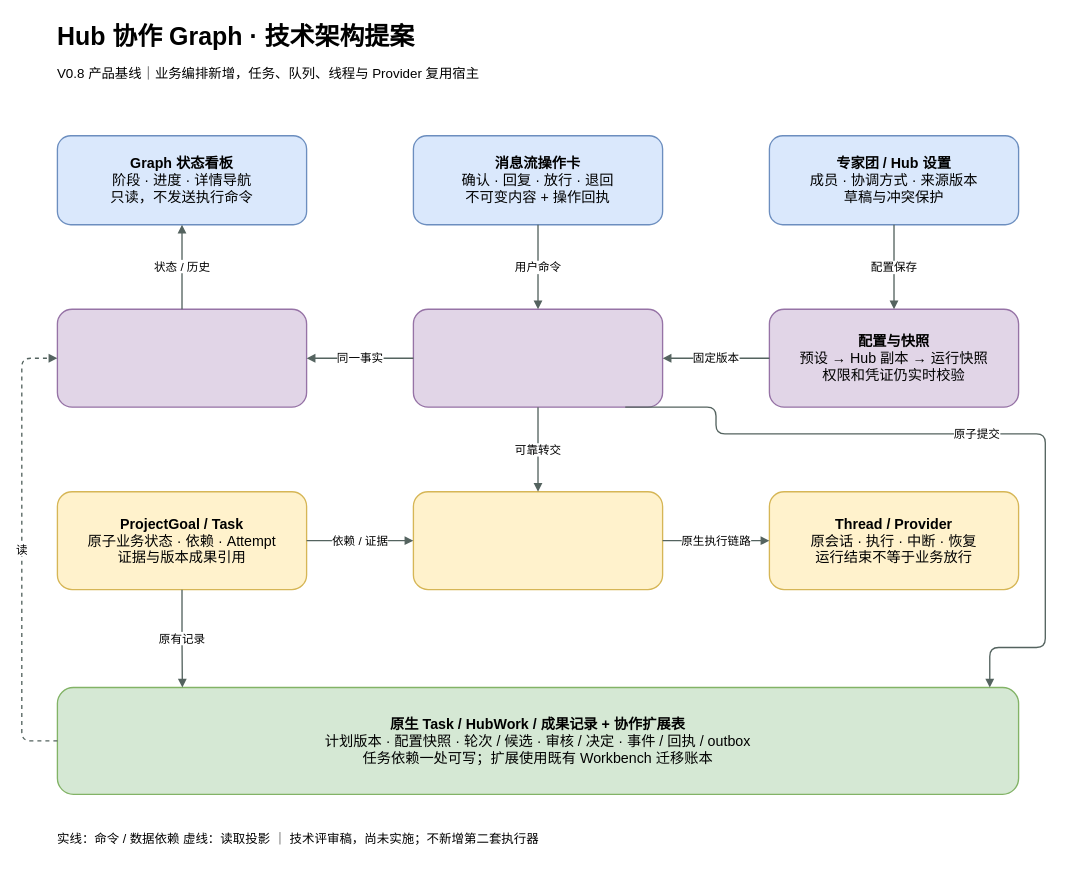
This 1069x871 diagram has some shape labels left out. Each missing label, with the centre of its shape:
HubWork / 命令准入 提交 · 排队 · 派发 · 续跑 复核授权、出口、暂停和输入: pixel 537 540
一致投影与事件 快照 · 持久序号 · 历史卡片 阶段由有效事实派生: pixel 181 357
计划与出口命令 版本授权 · 当前候选 · 用户决定 事务 / CAS / 回执 / outbox: pixel 537 357
